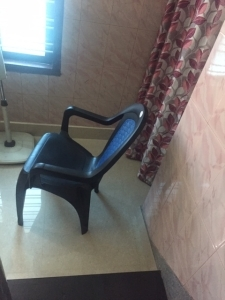chair: (15, 103, 148, 236)
